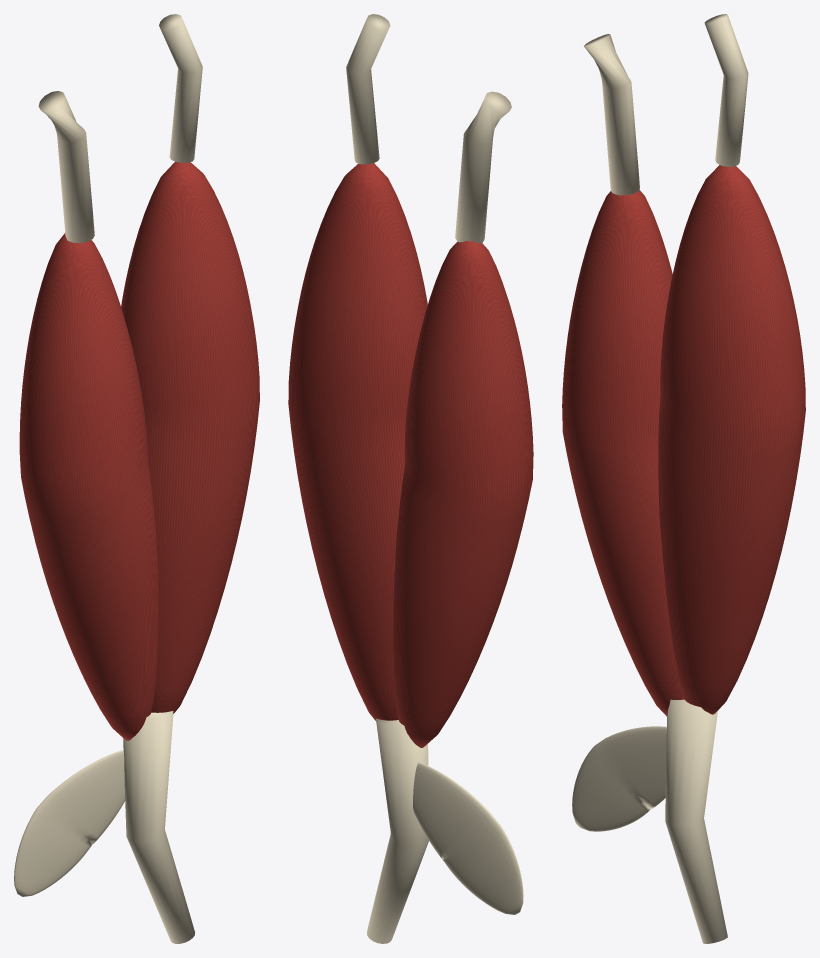
Rendered from right-biceps-brachii.glb.
3 renders of one model, left to right at view 1: azimuth 30°, elevation 25°; view 2: azimuth 150°, elevation 25°; view 3: azimuth 330°, elevation 25°, orthographic.
Visible parts, largest first — view 1: Biceps brachii short head, Biceps brachii long head, Bicipital aponeurosis, Common distal tendon to radial tuberosity, Short-head proximal tendon to coracoid attachment, Long-head proximal tendon to supraglenoid attachment; view 2: Biceps brachii long head, Biceps brachii short head, Bicipital aponeurosis, Common distal tendon to radial tuberosity, Short-head proximal tendon to coracoid attachment, Long-head proximal tendon to supraglenoid attachment; view 3: Biceps brachii long head, Biceps brachii short head, Common distal tendon to radial tuberosity, Bicipital aponeurosis, Short-head proximal tendon to coracoid attachment, Long-head proximal tendon to supraglenoid attachment.
Part boxes in pixels (left/top/right/bottom): Biceps brachii short head: left=19, top=233, right=158, bottom=740; Biceps brachii long head: left=121, top=161, right=259, bottom=713; Bicipital aponeurosis: left=14, top=750, right=125, bottom=896; Common distal tendon to radial tuberosity: left=123, top=711, right=195, bottom=943; Short-head proximal tendon to coracoid attachment: left=38, top=91, right=94, bottom=242; Long-head proximal tendon to supraglenoid attachment: left=159, top=14, right=202, bottom=162; Biceps brachii long head: left=288, top=163, right=427, bottom=721; Biceps brachii short head: left=393, top=241, right=533, bottom=747; Bicipital aponeurosis: left=413, top=762, right=523, bottom=914; Common distal tendon to radial tuberosity: left=367, top=718, right=428, bottom=943; Short-head proximal tendon to coracoid attachment: left=455, top=91, right=511, bottom=243; Long-head proximal tendon to supraglenoid attachment: left=346, top=14, right=390, bottom=164; Biceps brachii long head: left=658, top=165, right=805, bottom=714; Biceps brachii short head: left=562, top=190, right=684, bottom=716; Common distal tendon to radial tuberosity: left=665, top=699, right=727, bottom=943; Bicipital aponeurosis: left=572, top=726, right=666, bottom=831; Short-head proximal tendon to coracoid attachment: left=584, top=34, right=639, bottom=195; Long-head proximal tendon to supraglenoid attachment: left=704, top=14, right=748, bottom=166.
Bounding box in the file's own units: 0.082 × 0.3107 × 0.04.
Materials: 2 (2 with a texture image).
